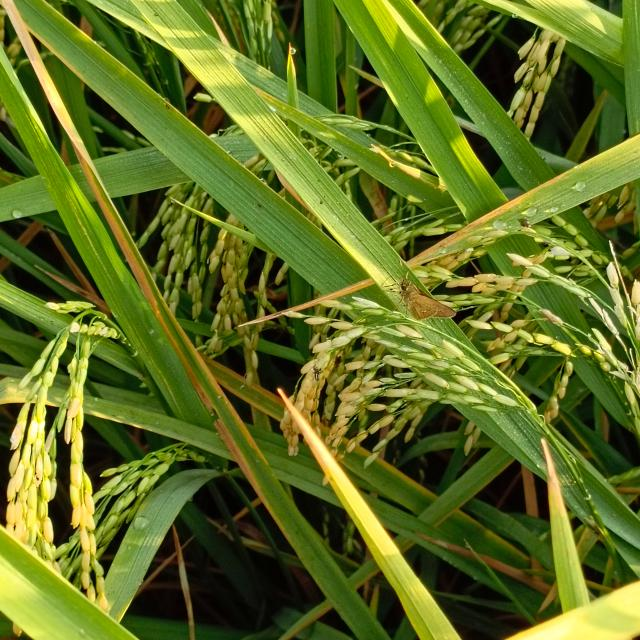Brown spot: (272, 384, 348, 485), (156, 312, 222, 404), (2, 1, 55, 91), (112, 236, 164, 311), (79, 163, 129, 234), (32, 263, 110, 307), (532, 433, 572, 514), (45, 93, 89, 162), (204, 406, 260, 456), (411, 226, 467, 269), (232, 458, 276, 504), (222, 366, 270, 406), (468, 197, 522, 230), (278, 39, 302, 95), (235, 307, 281, 332), (326, 276, 370, 300), (288, 294, 320, 310)
insects: (110, 408, 137, 421), (72, 287, 90, 299), (255, 200, 264, 212), (162, 102, 172, 112), (318, 198, 327, 207), (293, 528, 302, 536), (511, 132, 520, 140), (314, 177, 322, 184)
